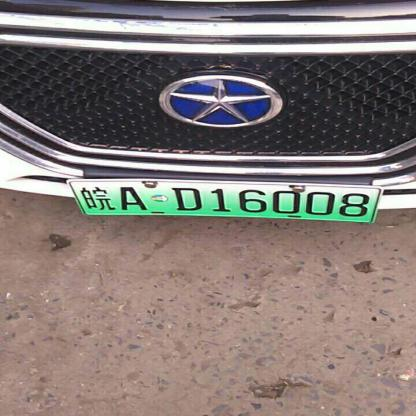lp: (67, 181, 380, 221)
